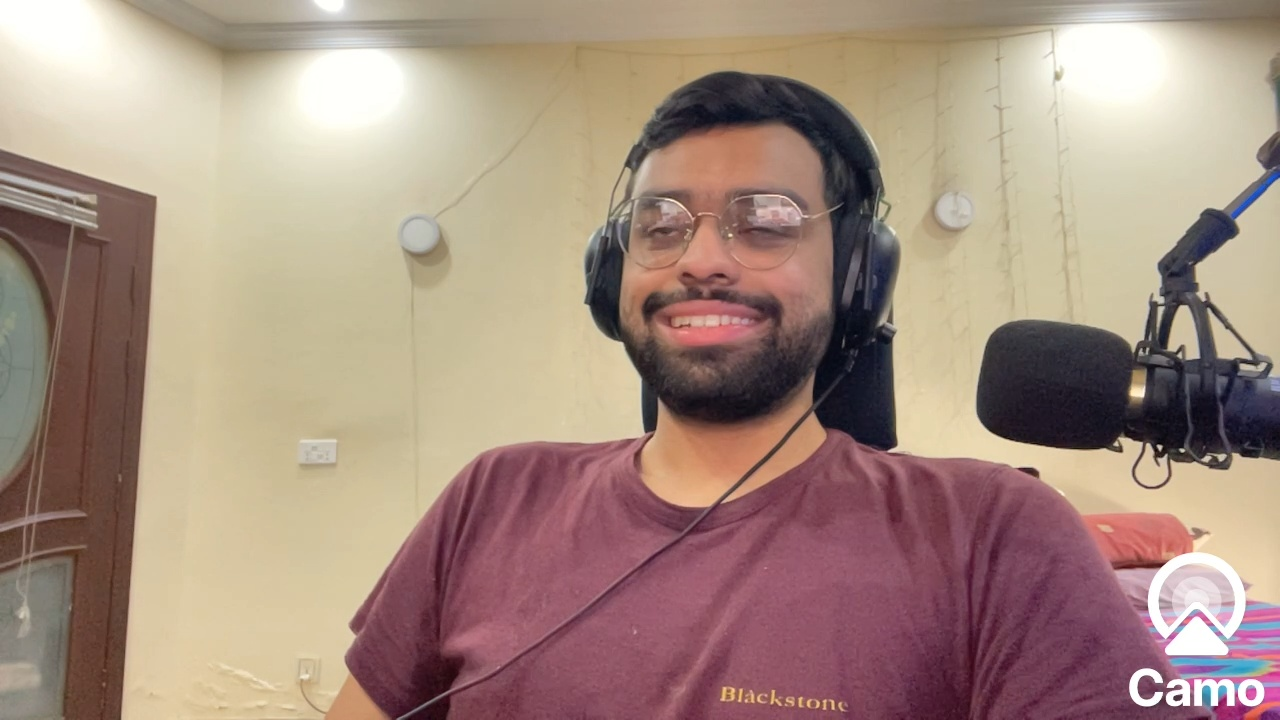happy: (626, 141, 823, 401)
